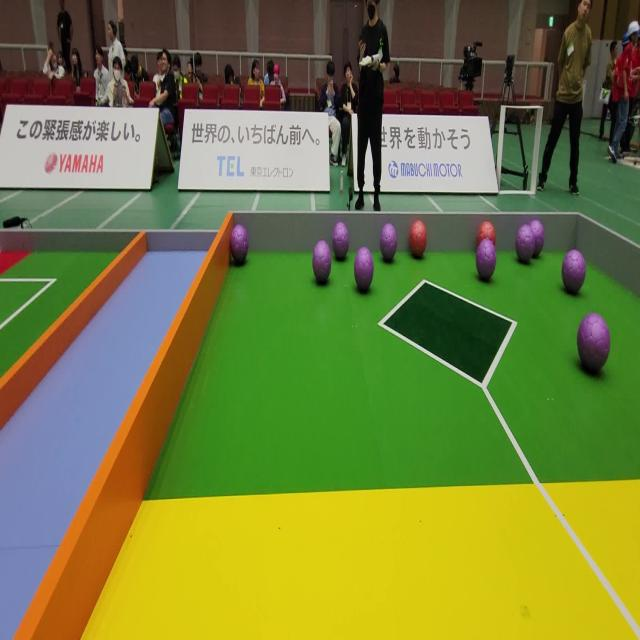purple_ball: (575, 309, 612, 378), (561, 246, 586, 293), (352, 246, 374, 295), (311, 240, 333, 283), (230, 224, 250, 264), (515, 224, 535, 264), (379, 222, 398, 264), (476, 244, 496, 282), (333, 222, 350, 264), (532, 217, 544, 258)
red_ball: (409, 218, 428, 262), (478, 222, 496, 242)
